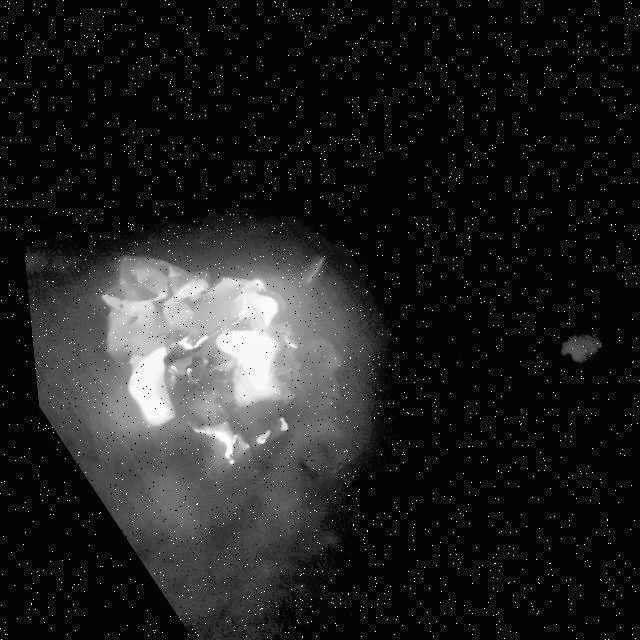Fire: (94, 272, 346, 494)
